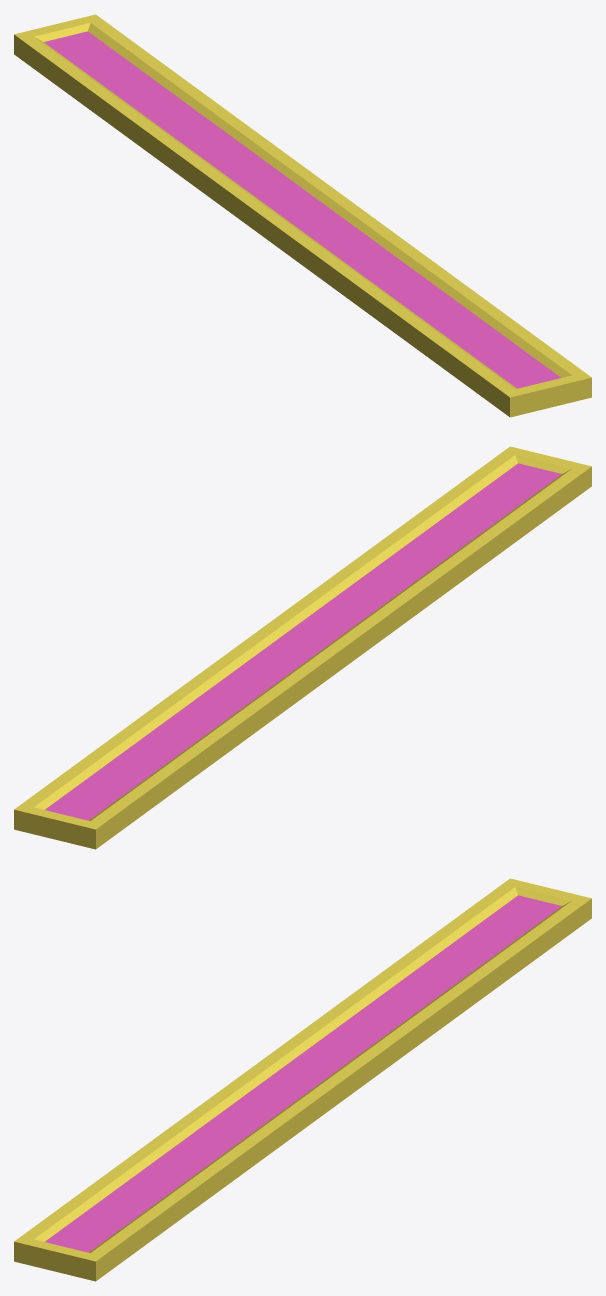
The model's file is pilares_techo_largofbx.fbx.
3 renders of one model, top to bottom at view 1: azimuth 30°, elevation 25°; view 2: azimuth 150°, elevation 25°; view 3: azimuth 330°, elevation 25°, orthographic.
Parts seen in each view (by area): view 1: Cube.038; view 2: Cube.038; view 3: Cube.038.
Boxes of the visible parts, bbox=[...] form: Cube.038: bbox=[14, 14, 591, 417]; Cube.038: bbox=[14, 446, 591, 849]; Cube.038: bbox=[14, 878, 591, 1281].
Bounding box in the file's own units: 200 × 46.67 × 2100.
